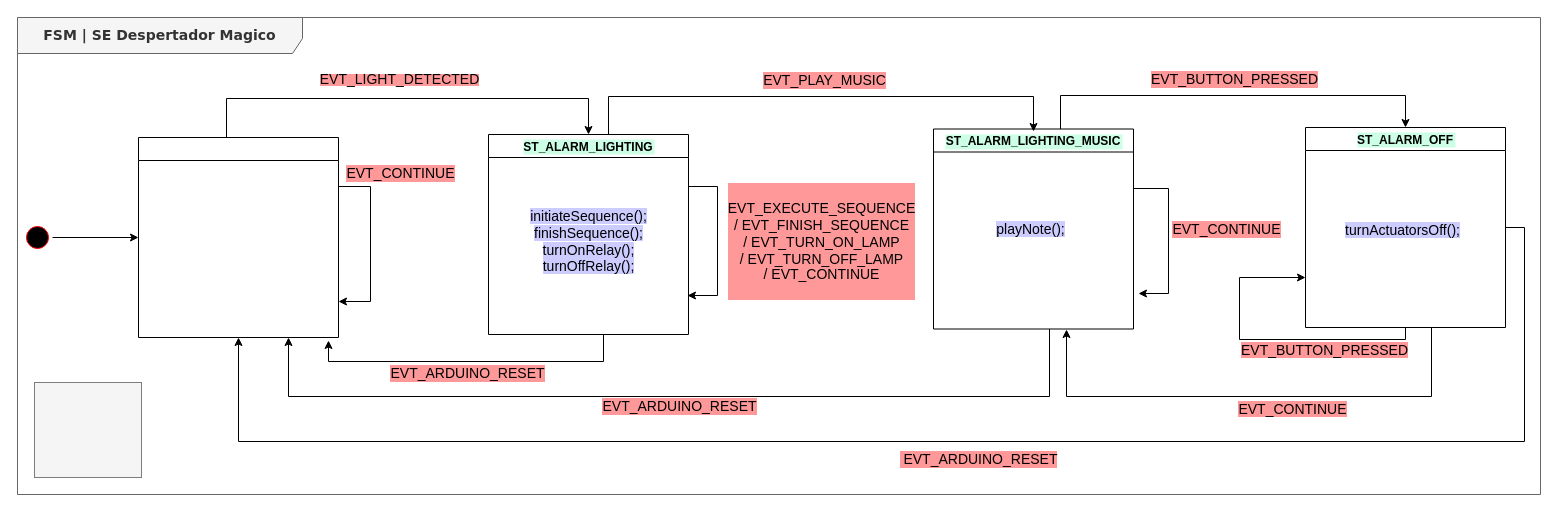
This 1558x512 diagram has some shape labels left out. The shapes that lost their labels are listed below. From the top down, each one's centre as x and y in pixels, then its label:
At (x=238, y=237): "ST_ALARM_IDLE".
At (x=88, y=430): "Referencias : Estados Eventos Acciones".
